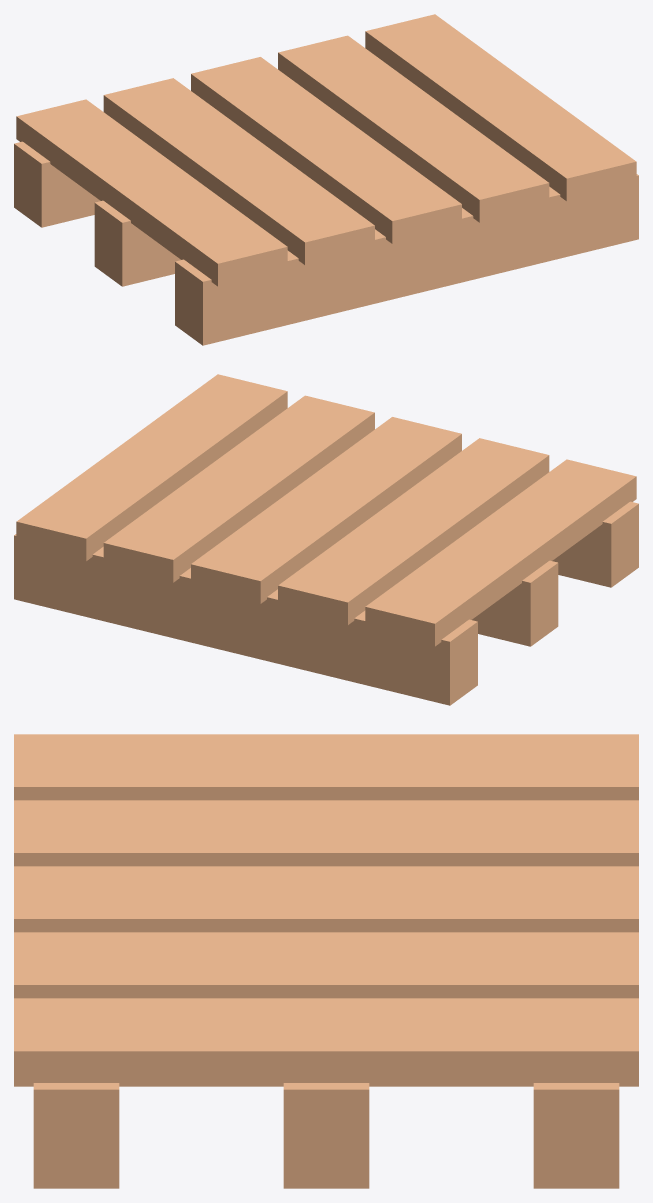
3 views of the same model, one above another, from view 1: azimuth 30°, elevation 25°; view 2: azimuth 150°, elevation 25°; view 3: azimuth 270°, elevation 25° (orthographic). The views are drawn at different scales.
Visible parts, largest first — view 1: Runner, Deck board, Deck board.004, Deck board.001, Deck board.003, Deck board.002, Runner.001, Runner.002; view 2: Runner.002, Deck board, Deck board.004, Deck board.001, Deck board.003, Deck board.002, Runner.001, Runner; view 3: Deck board.004, Deck board, Deck board.001, Deck board.002, Deck board.003, Runner, Runner.001, Runner.002.
Part boxes in pixels (x1=…): Runner: x1=175, y1=174, x2=638, y2=345; Deck board: x1=16, y1=99, x2=287, y2=286; Deck board.004: x1=365, y1=14, x2=636, y2=201; Deck board.001: x1=103, y1=78, x2=374, y2=265; Deck board.003: x1=278, y1=35, x2=549, y2=222; Deck board.002: x1=191, y1=57, x2=461, y2=243; Runner.001: x1=94, y1=200, x2=180, y2=286; Runner.002: x1=14, y1=141, x2=100, y2=227; Runner.002: x1=14, y1=534, x2=477, y2=705; Deck board: x1=365, y1=459, x2=636, y2=646; Deck board.004: x1=16, y1=374, x2=287, y2=561; Deck board.001: x1=278, y1=438, x2=549, y2=625; Deck board.003: x1=103, y1=395, x2=374, y2=582; Deck board.002: x1=191, y1=417, x2=461, y2=603; Runner.001: x1=472, y1=560, x2=558, y2=646; Runner: x1=552, y1=501, x2=638, y2=587; Deck board.004: x1=14, y1=998, x2=638, y2=1086; Deck board: x1=14, y1=734, x2=638, y2=800; Deck board.001: x1=14, y1=800, x2=638, y2=866; Deck board.002: x1=14, y1=866, x2=638, y2=932; Deck board.003: x1=14, y1=932, x2=638, y2=998; Runner: x1=33, y1=1083, x2=119, y2=1188; Runner.001: x1=283, y1=1083, x2=369, y2=1188; Runner.002: x1=533, y1=1083, x2=619, y2=1188.
Size of the model in its own units: 1 by 0.185 by 0.8.
1 material, 1 textured.
